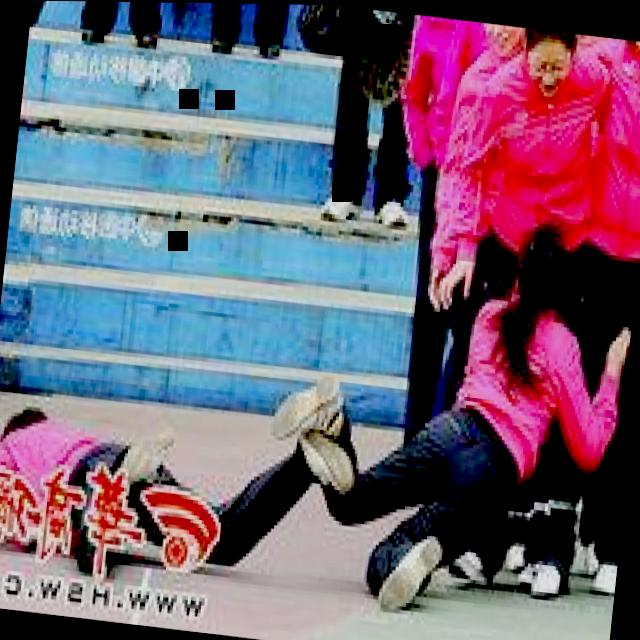Fall-Detected: (0, 305, 352, 599)
